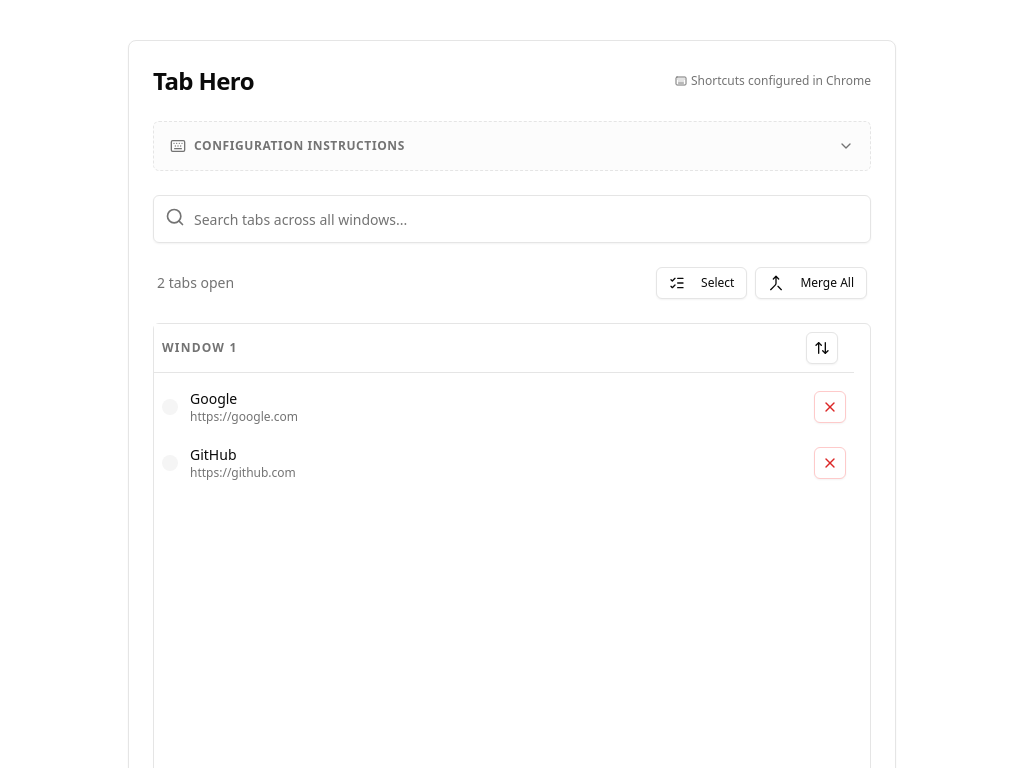
App › filters tabs based on search input
Check: the text "Google" is shown, box [190,389,237,408]
In the field with placeholder "Search tabs across all windows...": point(512, 219) [153,195,871,243], type "Git"
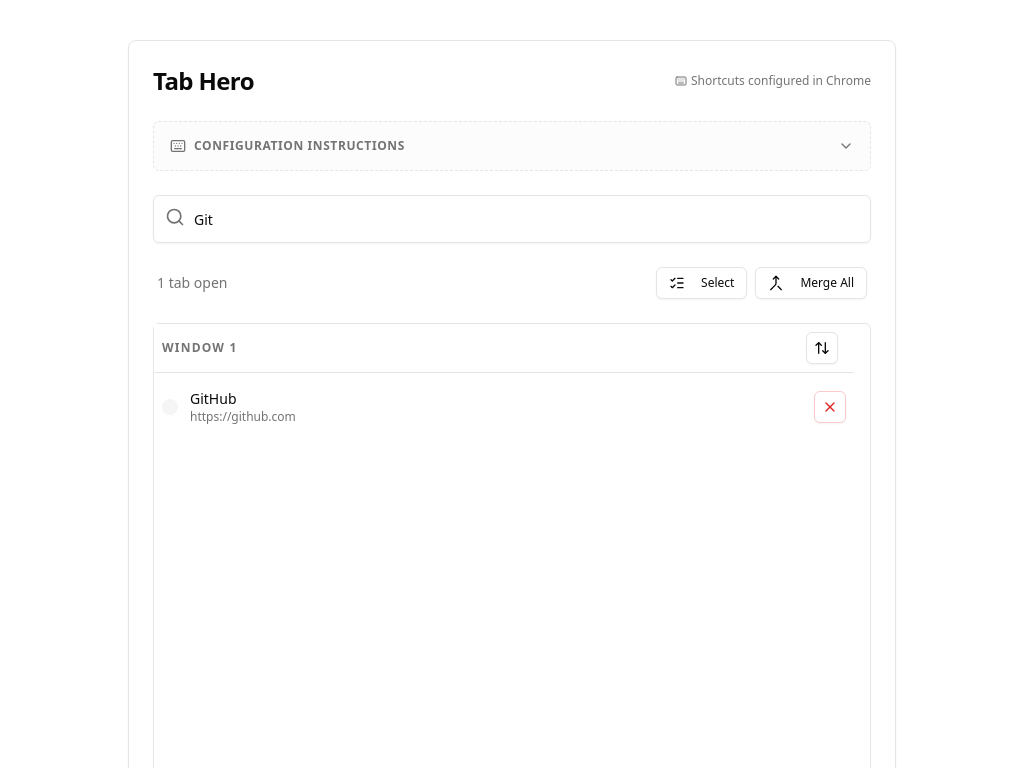
Check: the text "GitHub" is shown, box [190,389,236,408]
Check: the text "Google" is gone
